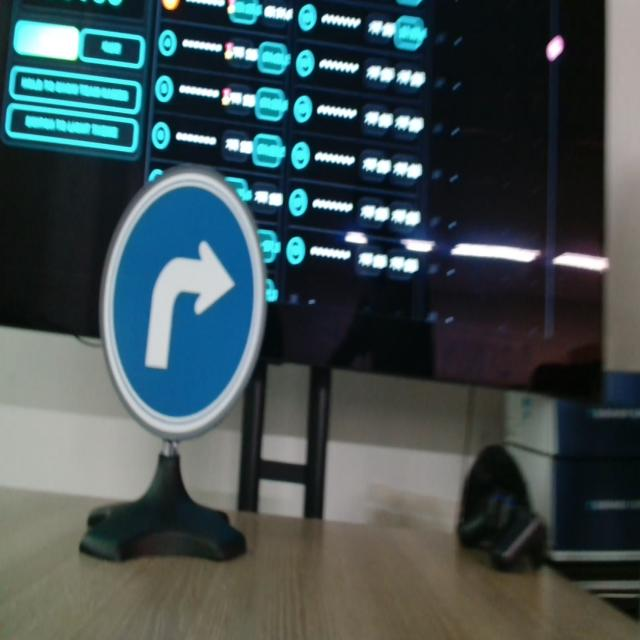right_dierection: (95, 162, 258, 432)
